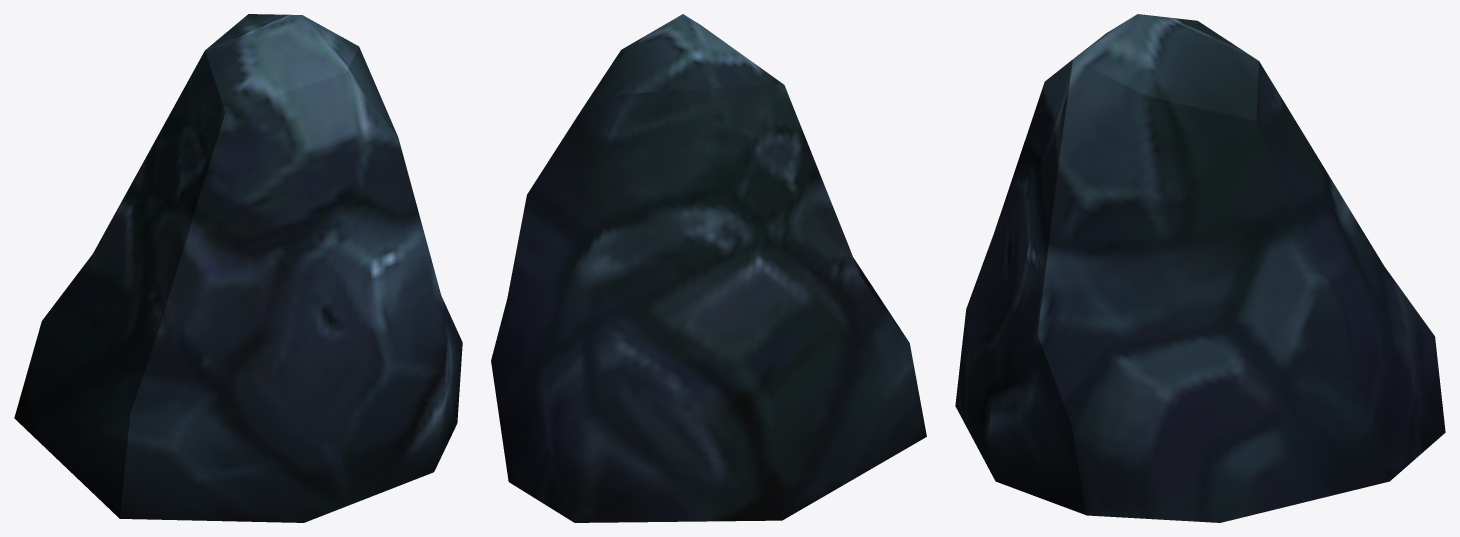
The model's file is H_Maze_xiaoshitou05.FBX.
3 renders of one model, left to right at view 1: azimuth 30°, elevation 25°; view 2: azimuth 150°, elevation 25°; view 3: azimuth 270°, elevation 25°, orthographic. The views are drawn at different scales.
Parts seen in each view (by area): view 1: xiaoshitou05; view 2: xiaoshitou05; view 3: xiaoshitou05.
Boxes of the visible parts, box(x1,y1,x2,y2) form: xiaoshitou05: box(14, 14, 462, 522); xiaoshitou05: box(491, 14, 926, 522); xiaoshitou05: box(955, 14, 1445, 522).
Bounding box in the file's own units: 130 × 141 × 143.
